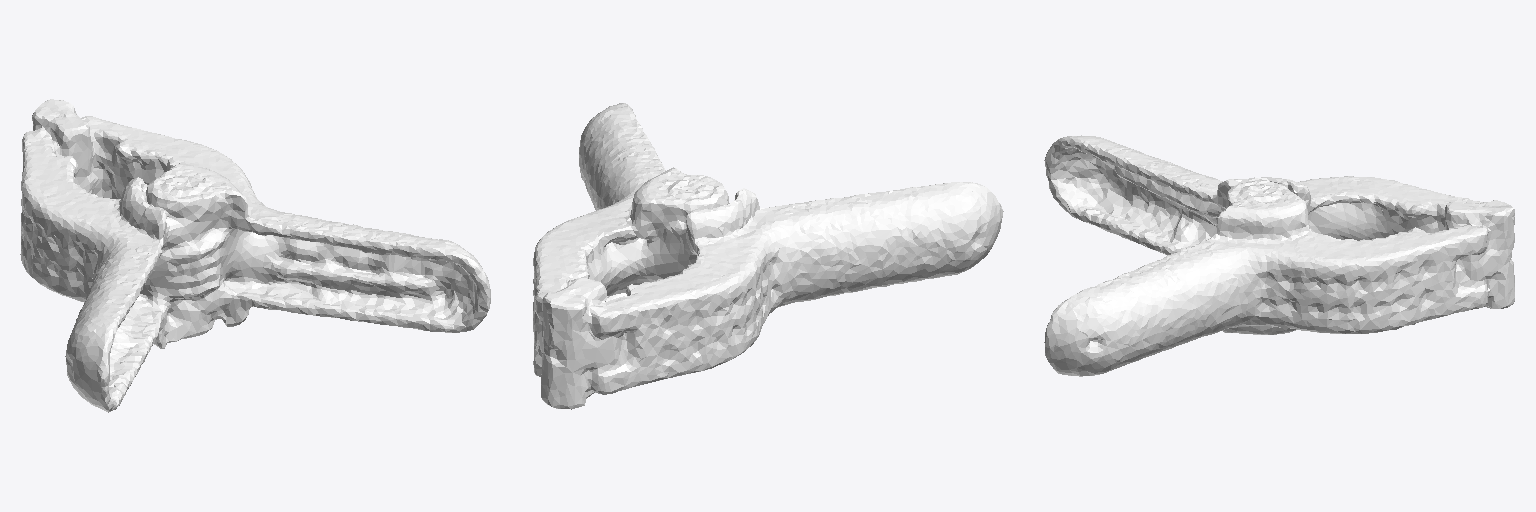
URDF robot description (medium_clamp):
<robot name="medium_clamp">
    <link name="base_link">
        <visual>
            <origin xyz="0.0 0.0 0.0" rpy="0.0 0.0 0.0" />
            <geometry>
                <mesh filename="medium_clamp/textured.obj" scale="1 1 1" />
            </geometry>
            <material name="texture">
                <color rgba="1.0 1.0 1.0 1.0" />
            </material>
        </visual>
        <collision>
            <origin xyz="0.0 0.0 0.0" rpy="0.0 0.0 0.0" />
            <geometry>
                <mesh filename="medium_clamp/textured_coacd_0.stl" scale="1 1 1" />
            </geometry>
        </collision>
        <collision>
            <origin xyz="0.0 0.0 0.0" rpy="0.0 0.0 0.0" />
            <geometry>
                <mesh filename="medium_clamp/textured_coacd_1.stl" scale="1 1 1" />
            </geometry>
        </collision>
        <collision>
            <origin xyz="0.0 0.0 0.0" rpy="0.0 0.0 0.0" />
            <geometry>
                <mesh filename="medium_clamp/textured_coacd_2.stl" scale="1 1 1" />
            </geometry>
        </collision>
        <collision>
            <origin xyz="0.0 0.0 0.0" rpy="0.0 0.0 0.0" />
            <geometry>
                <mesh filename="medium_clamp/textured_coacd_3.stl" scale="1 1 1" />
            </geometry>
        </collision>
        <collision>
            <origin xyz="0.0 0.0 0.0" rpy="0.0 0.0 0.0" />
            <geometry>
                <mesh filename="medium_clamp/textured_coacd_4.stl" scale="1 1 1" />
            </geometry>
        </collision>
        <inertial>
            <mass value="0.059" />
            <inertia ixx="1e-3" ixy="0.0" ixz="0.0" iyy="1e-3" iyz="0.0" izz="1e-3" />
        </inertial>
    </link>
</robot>

--- Facts derived from the render (not from the file) ---
Views: 3 orthographic renders of the robot side by side, from view 1: azimuth 30°, elevation 25°; view 2: azimuth 150°, elevation 25°; view 3: azimuth 270°, elevation 25°.
Robot: medium_clamp — 1 links, 0 joints (none); root link base_link; default pose: every joint at zero.
Links seen in each view (by area): view 1: base_link; view 2: base_link; view 3: base_link.
Boxes of the visible links, <box> form: base_link: <box>20,99,490,412</box>; base_link: <box>533,103,1003,409</box>; base_link: <box>1044,135,1514,376</box>.
Size in the robot's own frame: 0.0772 by 0.0846 by 0.026 metres.
1 mesh visuals loaded from 1 distinct referenced files (1 OBJ).